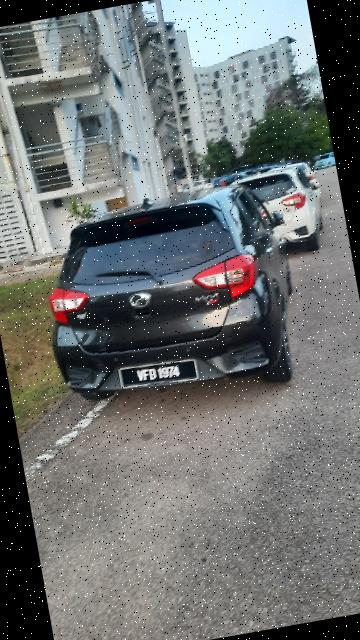License_Plate: (115, 350, 204, 398)
car: (29, 166, 316, 424)
